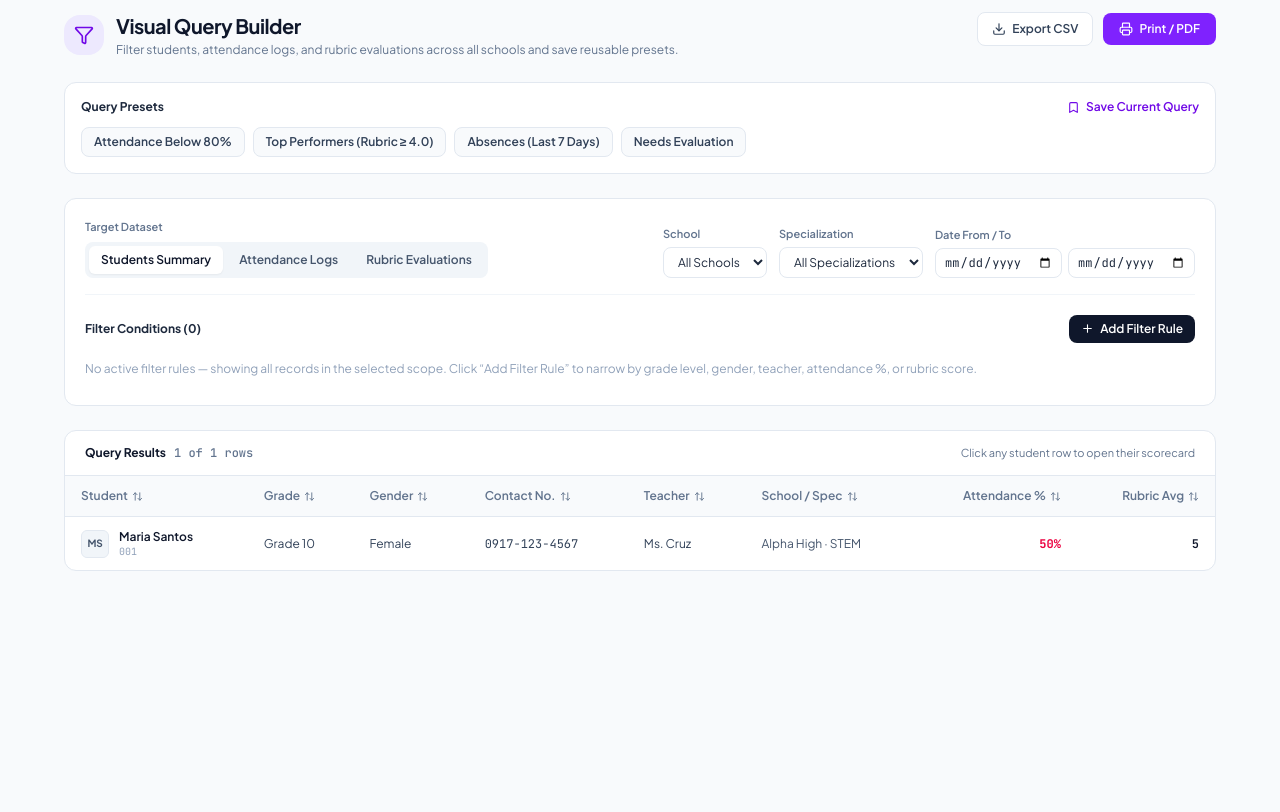
Test: Core Views integration › QueryBuilderView applies presets, adds filter rules, switches datasets, and saves presets
Check: the text "Maria Santos" is shown, box [119,529,193,545]
Click the button "Attendance Below 80%": click(163, 142) [81,127,245,157]
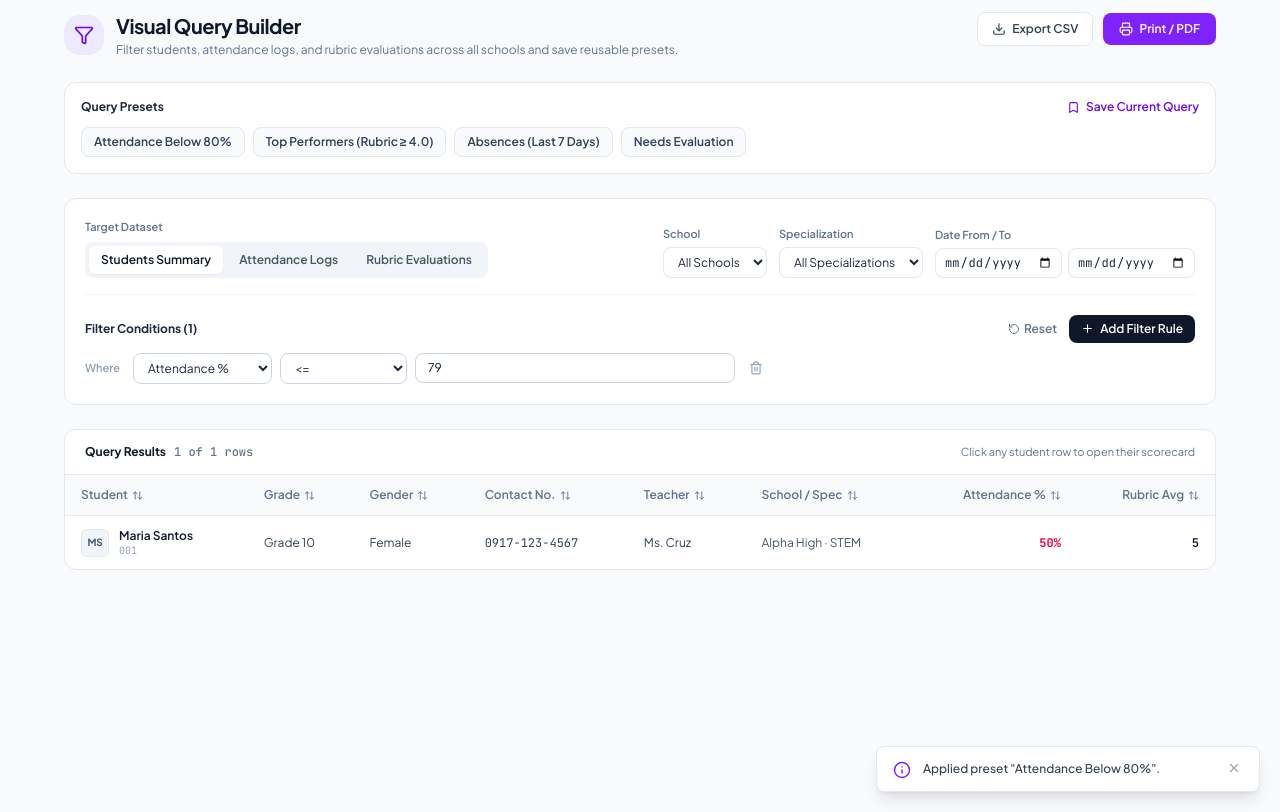
Check: the text "1 of 1 rows" is shown, box [174,444,253,460]
Click the button "Attendance Logs": click(289, 260) [227,246,350,274]
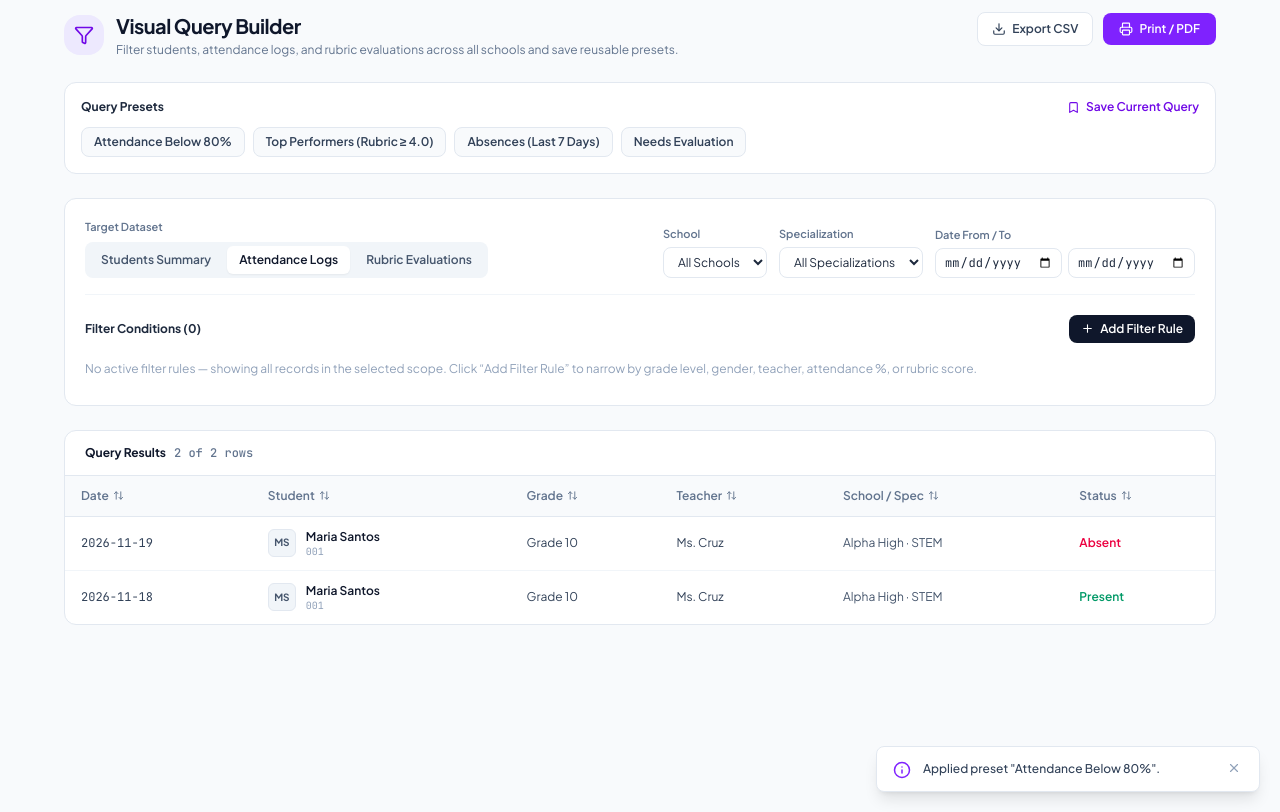
Check: the text "2 of 2 rows" is shown, box [174,444,253,460]
Click the button "Add Filter Rule": click(1132, 328) [1069,314,1195,342]
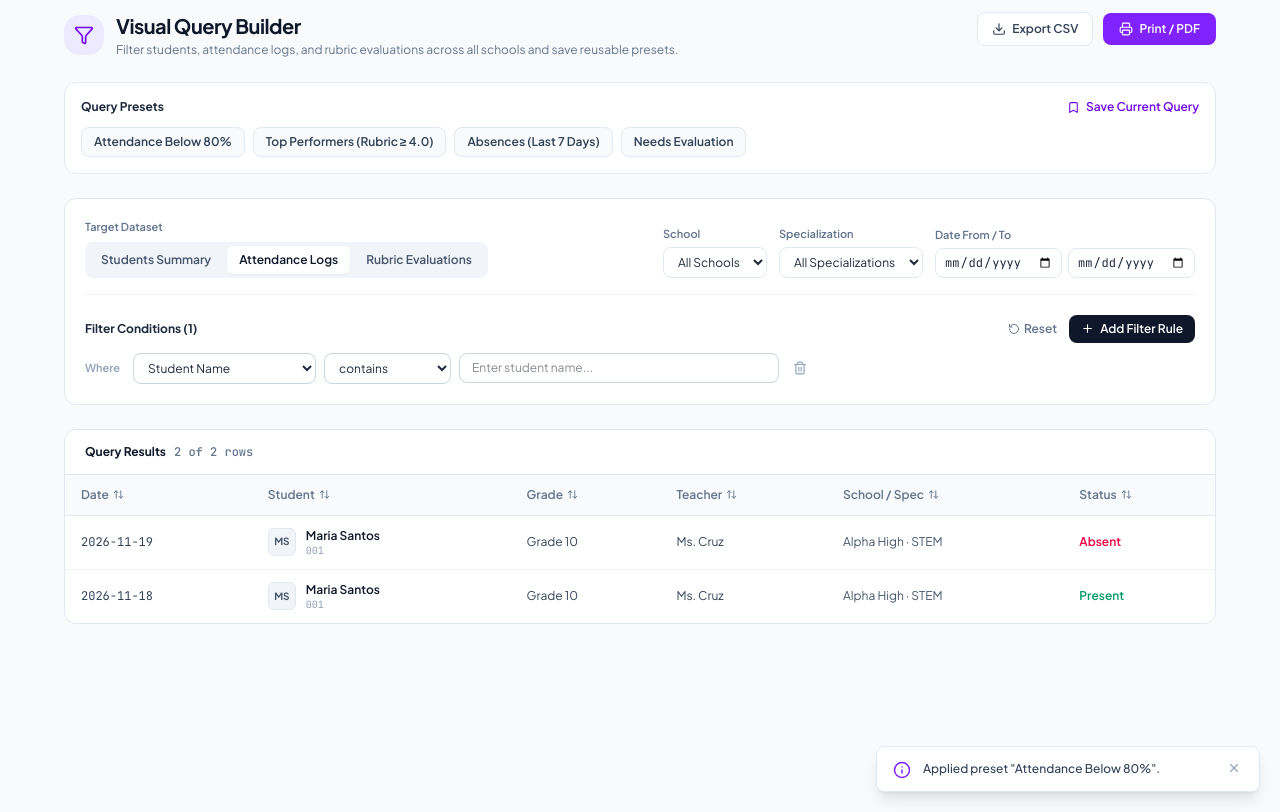
Click the button "Save Current Query": click(1133, 107) [1067,99,1199,115]
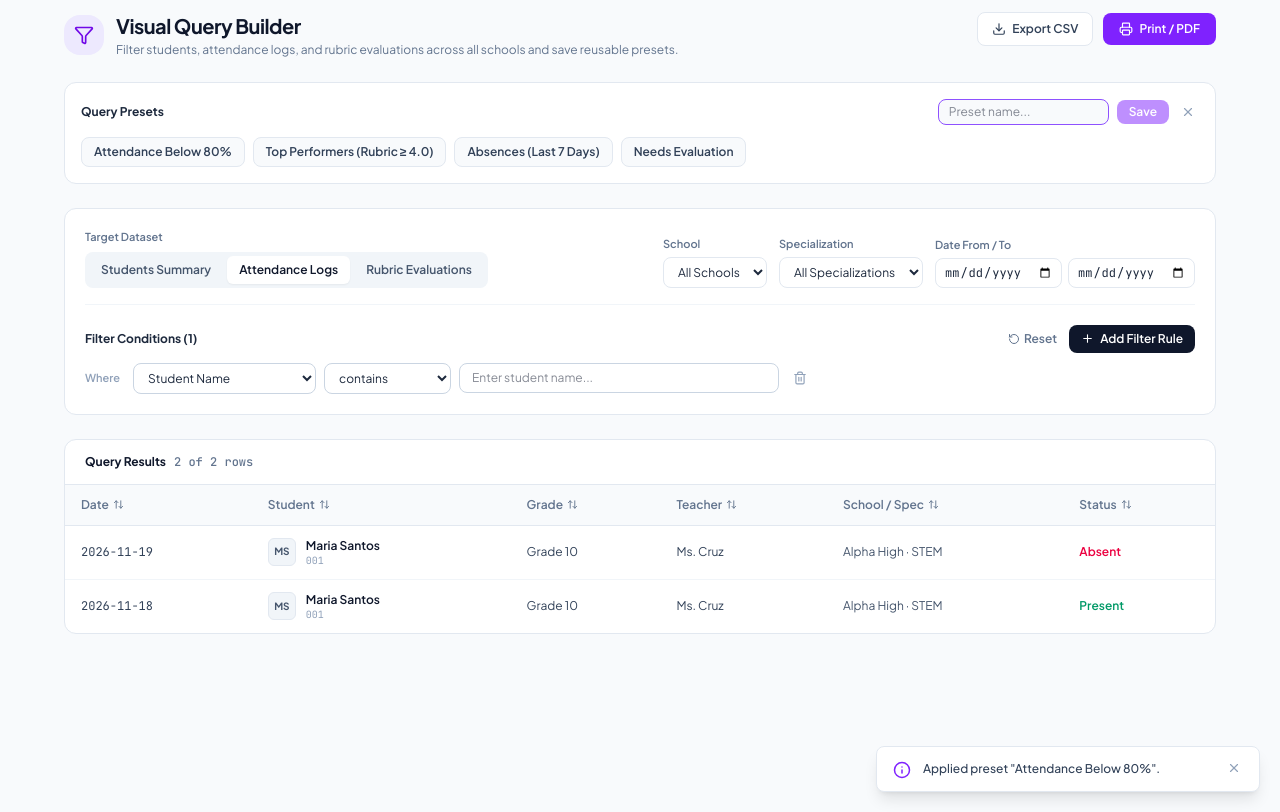
In the field with placeholder "Preset name...": (1023, 112) [938,99,1109,125], type "My Filter"
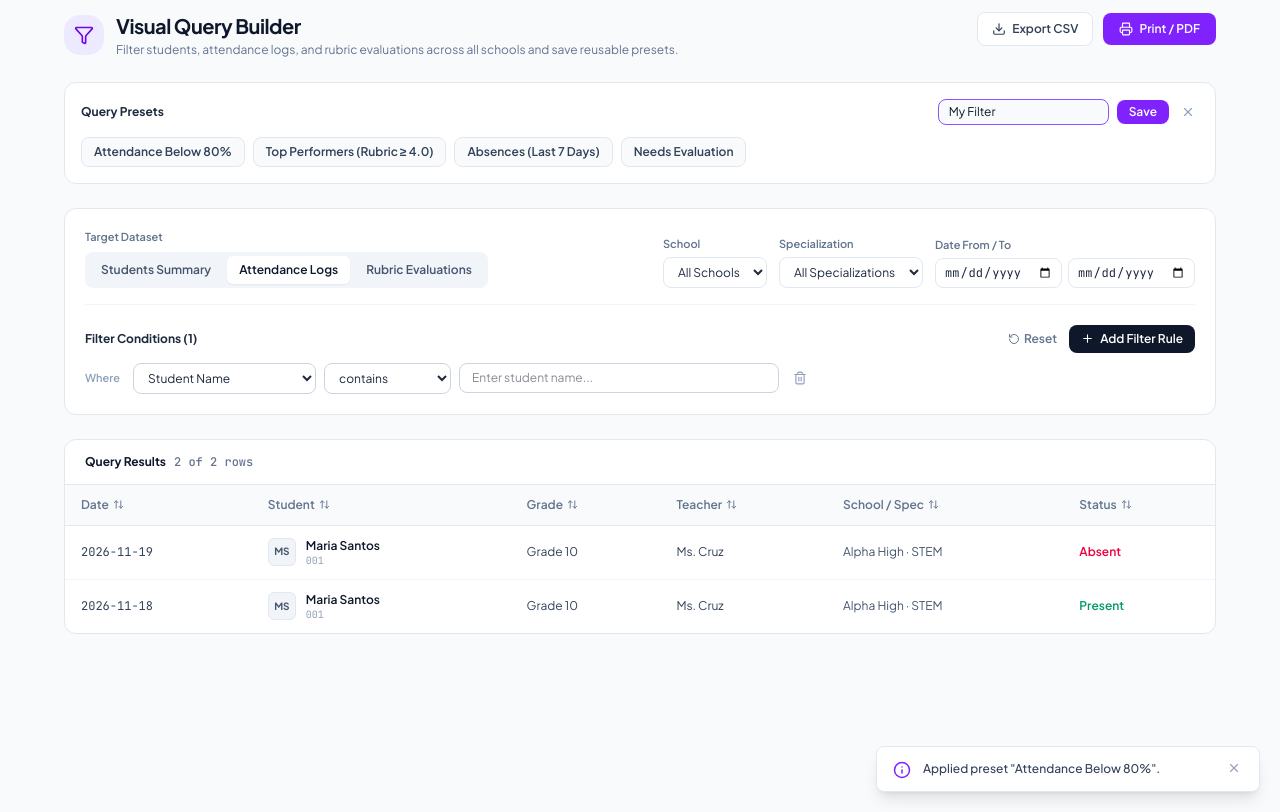
Click the button "Save": click(1143, 112) [1117,100,1169,124]
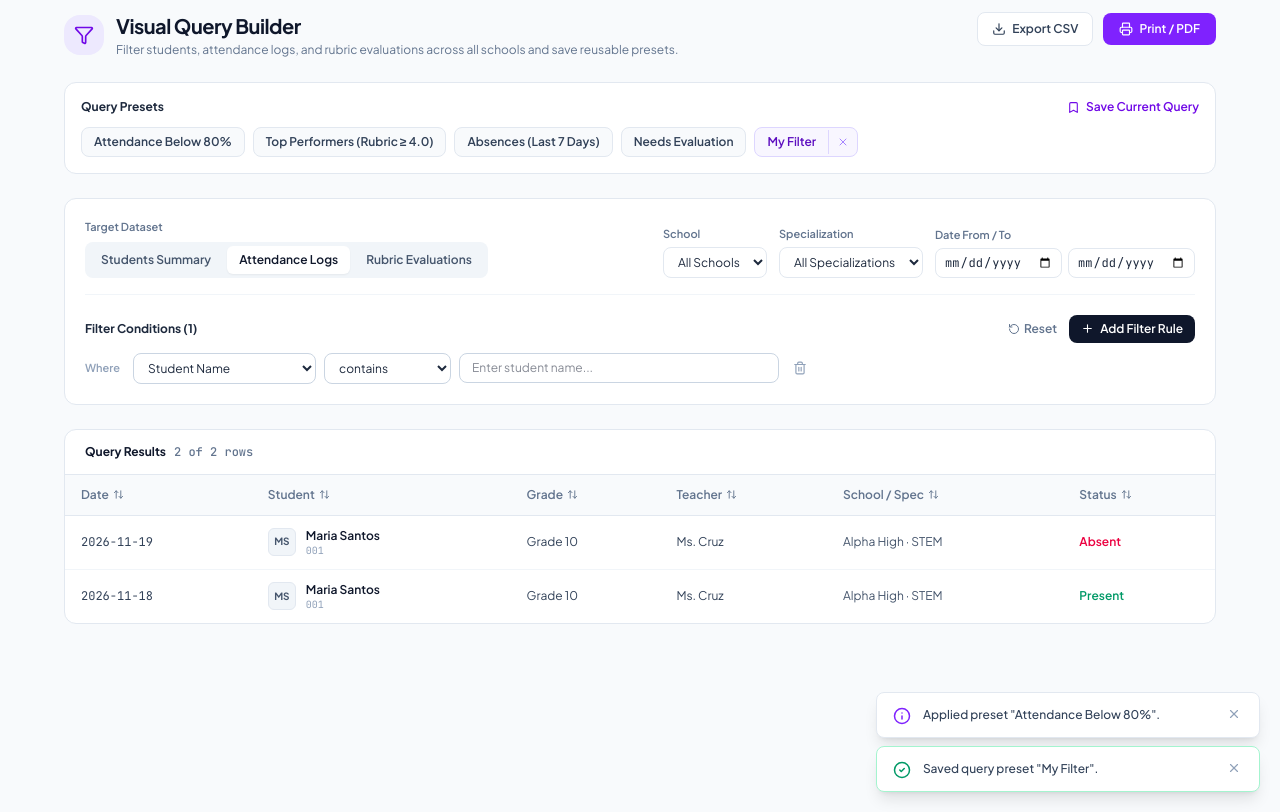
Check: the button "My Filter" is shown, box [756,128,828,156]
